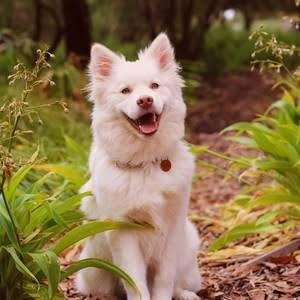adult_dog: (60, 32, 205, 300)
